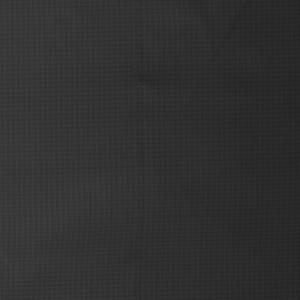Wrinkle: (135, 1, 265, 138)
